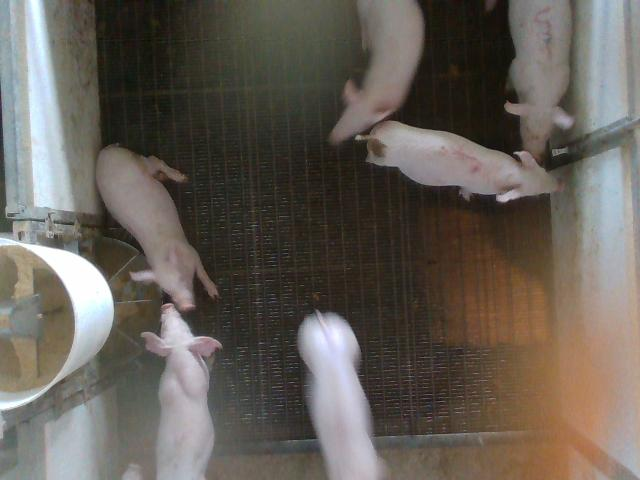pig-3: (505, 0, 574, 162)
pig-5: (356, 121, 559, 202)
